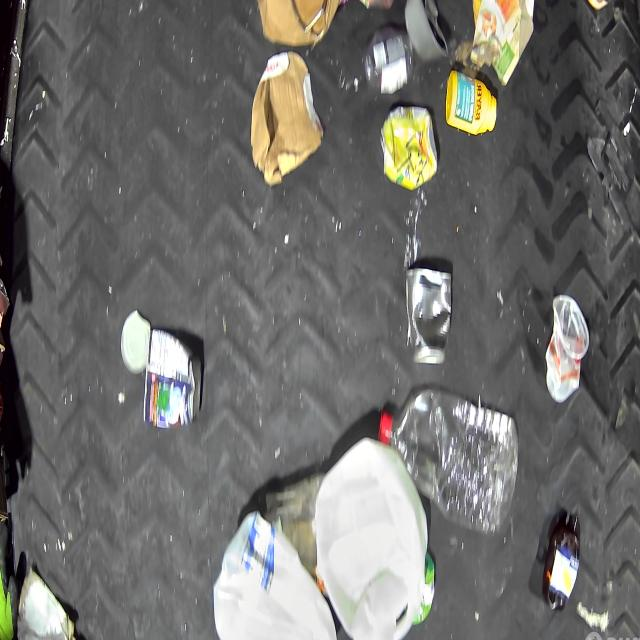can: (407, 266, 452, 368), (405, 0, 449, 65)
milk_jug: (316, 437, 428, 640), (208, 512, 336, 640)
plastic_bottle: (379, 392, 520, 534)
